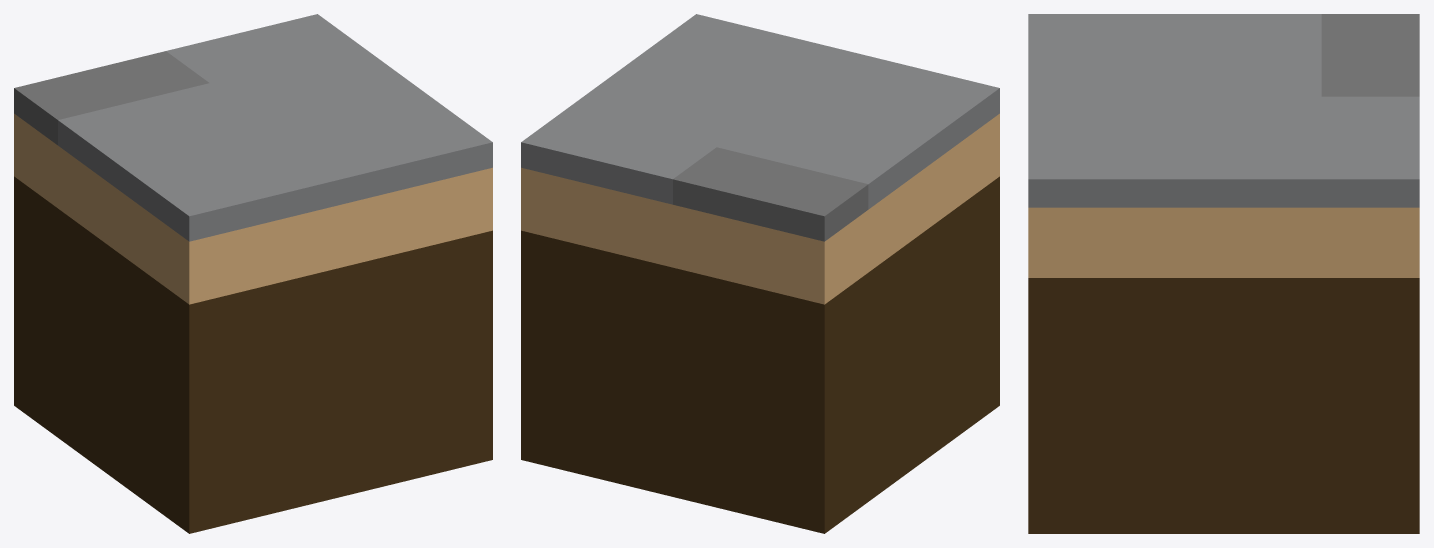
Rendered from floor_2.fbx.
3 views of the same model, side by side, from view 1: azimuth 30°, elevation 25°; view 2: azimuth 150°, elevation 25°; view 3: azimuth 270°, elevation 25° (orthographic). The views are drawn at different scales.
Parts seen in each view (by area): view 1: Floor.004; view 2: Floor.004; view 3: Floor.004.
Part boxes in pixels (x1,y1,x2,y2): Floor.004: (14,14,492,533); Floor.004: (521,14,999,533); Floor.004: (1028,14,1419,533).
Bounding box in the file's own units: 1 × 1 × 1.
